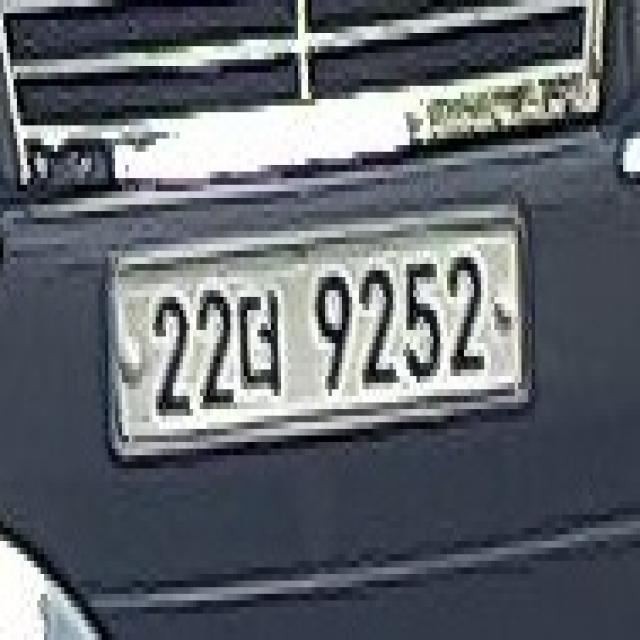2: (193, 270, 238, 423), (149, 291, 195, 424), (449, 246, 491, 391), (359, 259, 401, 394)
5: (402, 249, 444, 393)
9: (310, 264, 355, 398)
deo: (237, 277, 294, 415)
license_plate: (118, 221, 522, 448)
